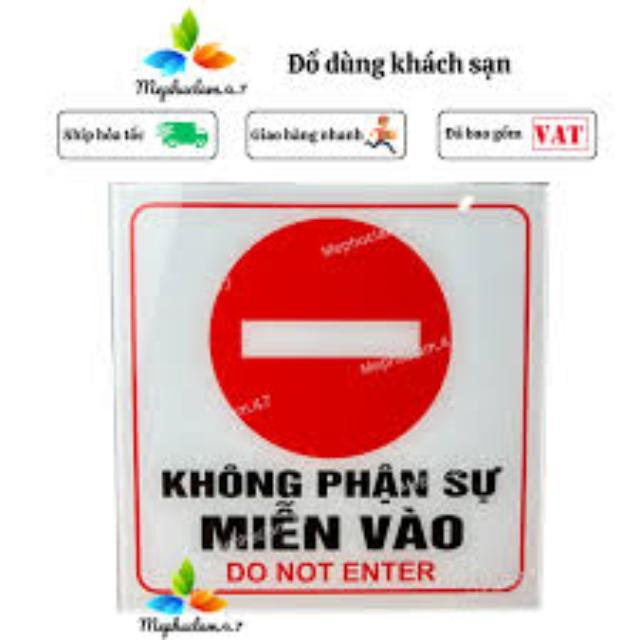no_entry: (114, 185, 546, 606)
